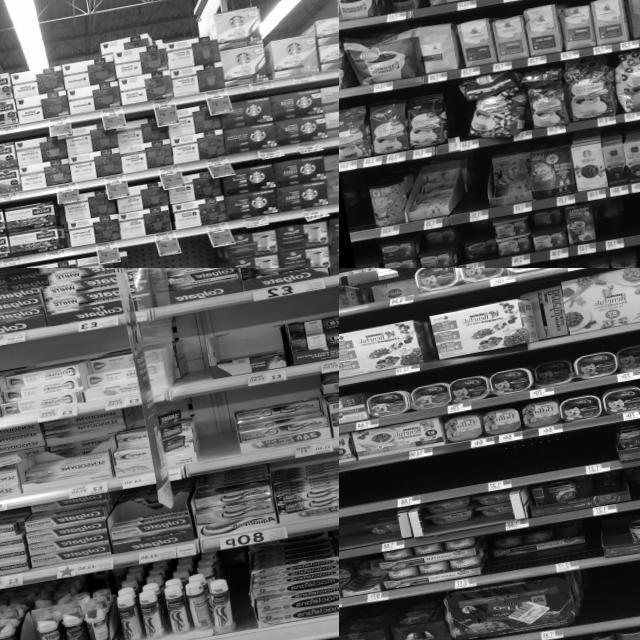Imprecise: (0, 409, 123, 499), (27, 493, 111, 566), (0, 265, 48, 333), (488, 528, 548, 572), (424, 494, 470, 534), (342, 556, 387, 596), (472, 488, 518, 524), (533, 208, 570, 250), (420, 229, 455, 266), (458, 236, 498, 264), (533, 359, 572, 387), (366, 518, 400, 542)
